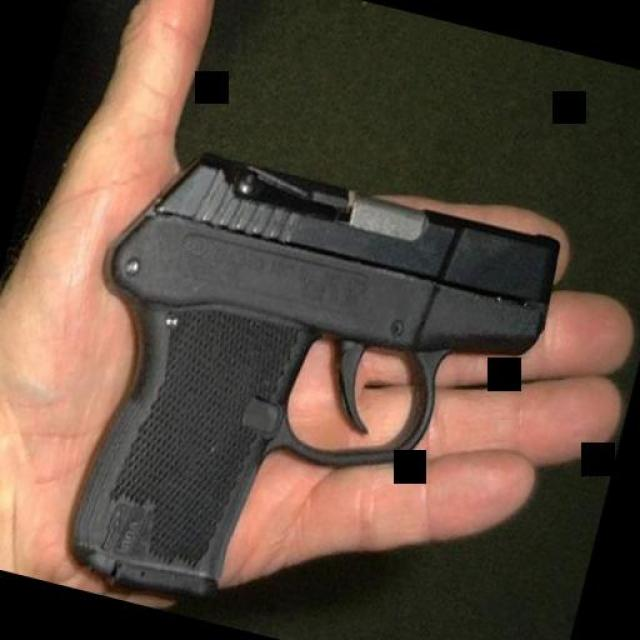gun: (26, 122, 566, 640)
